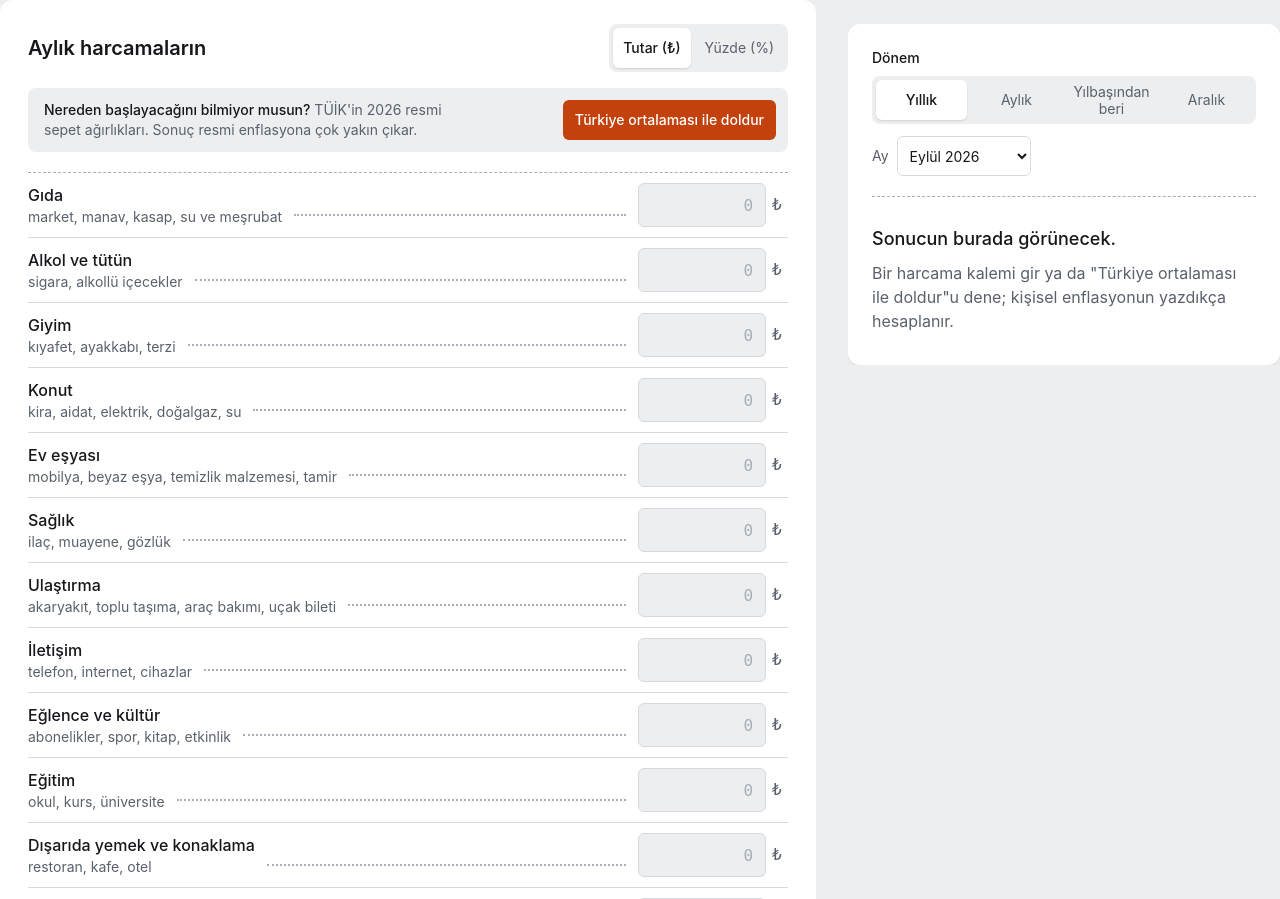
Test: Calculator › TL'den yüzdeye geçince dağılımı korur
Type "30000" into the field labelled "Konut" at (702, 400), box x1=638 y1=378 x2=766 y2=422
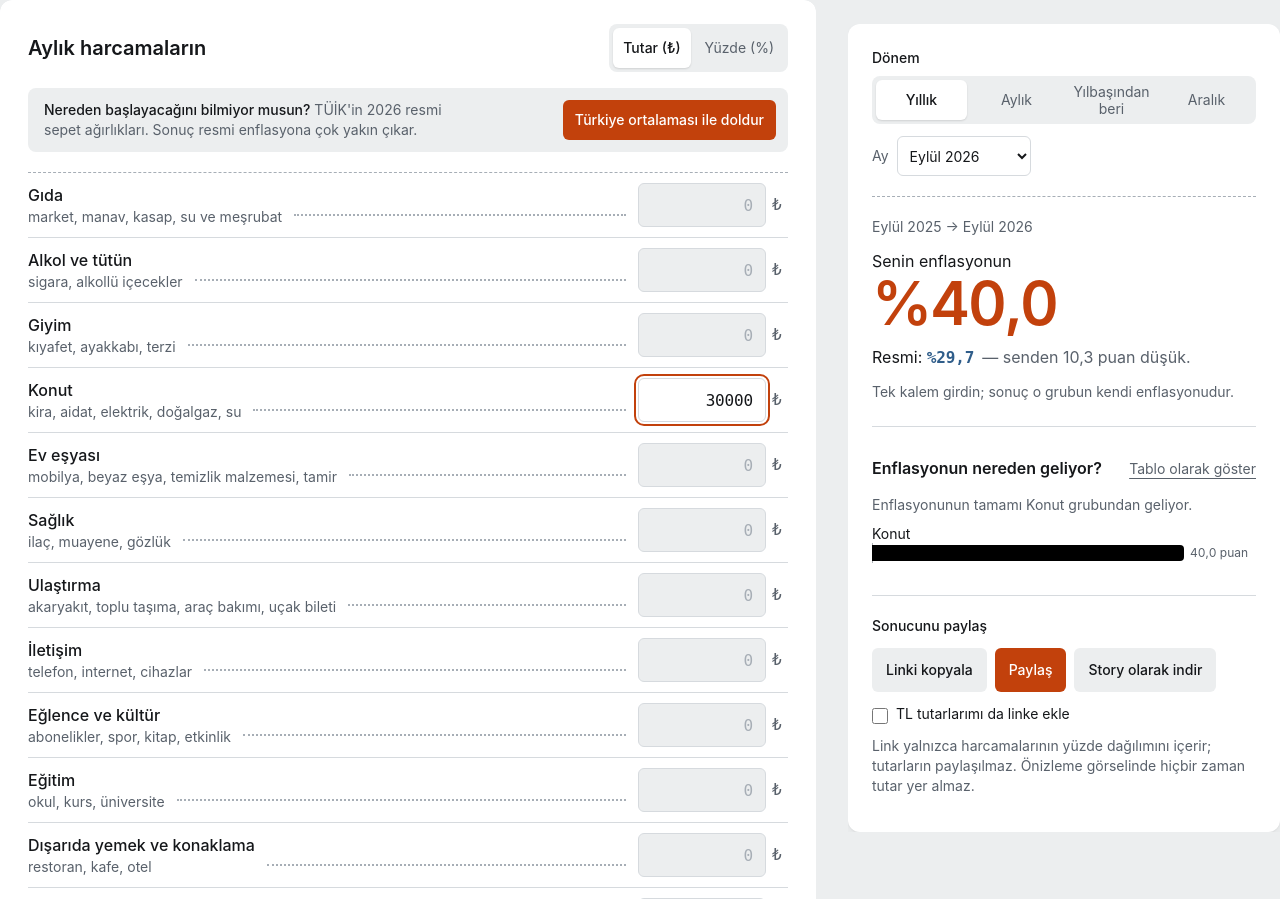
Type "10000" into the field labelled "Gıda" at (702, 205), box x1=638 y1=183 x2=766 y2=227
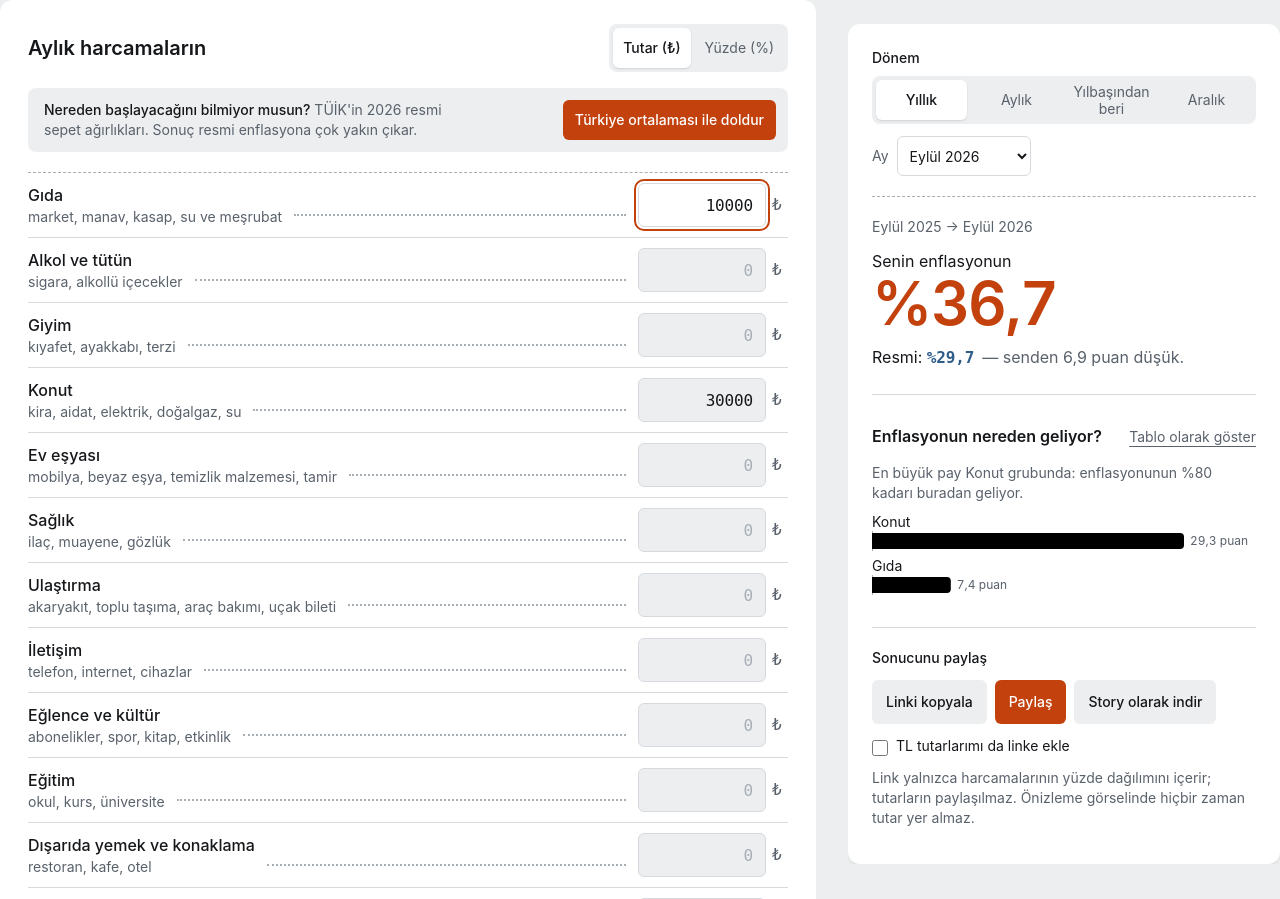
Click the radio button labelled "Yüzde (%)" at (739, 48), box x1=705 y1=39 x2=774 y2=56
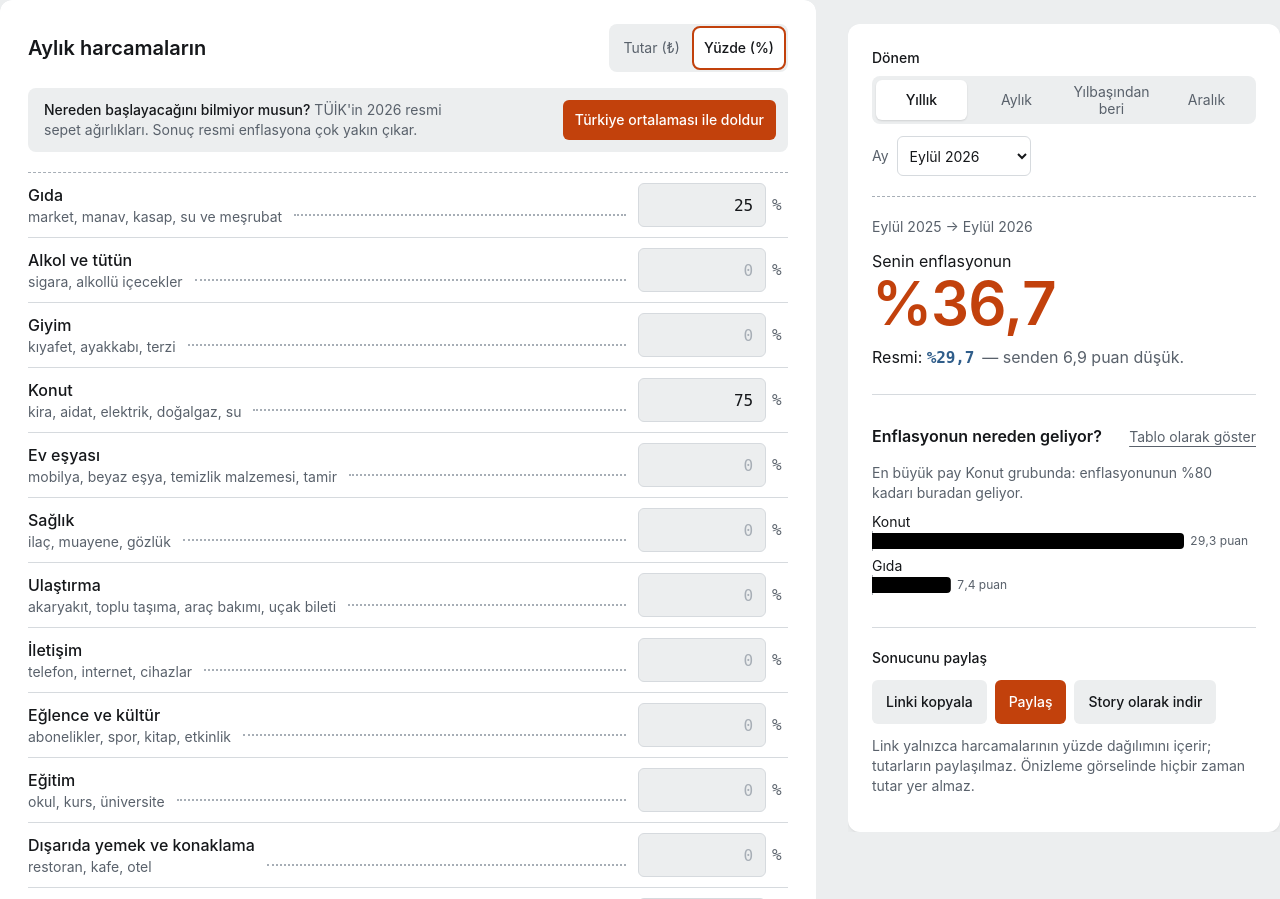
Check: the field labelled "Konut" holds "75", box x1=638 y1=378 x2=766 y2=422
Check: the field labelled "Gıda" holds "25", box x1=638 y1=183 x2=766 y2=227
